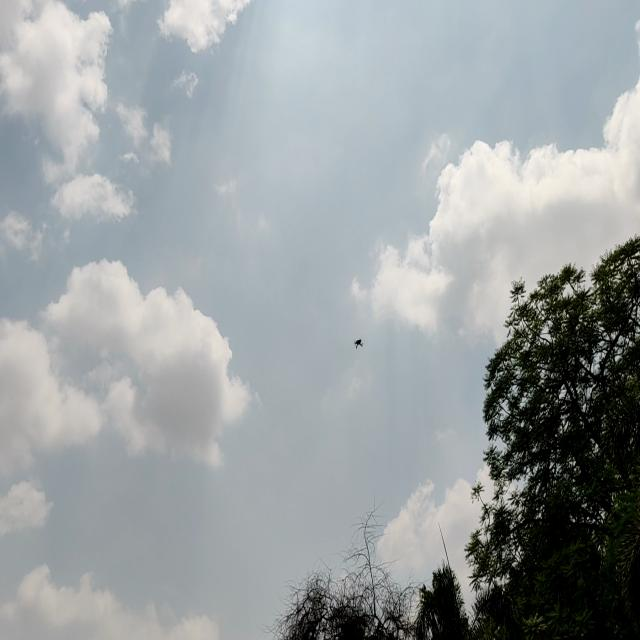drone: (350, 330, 367, 354)
